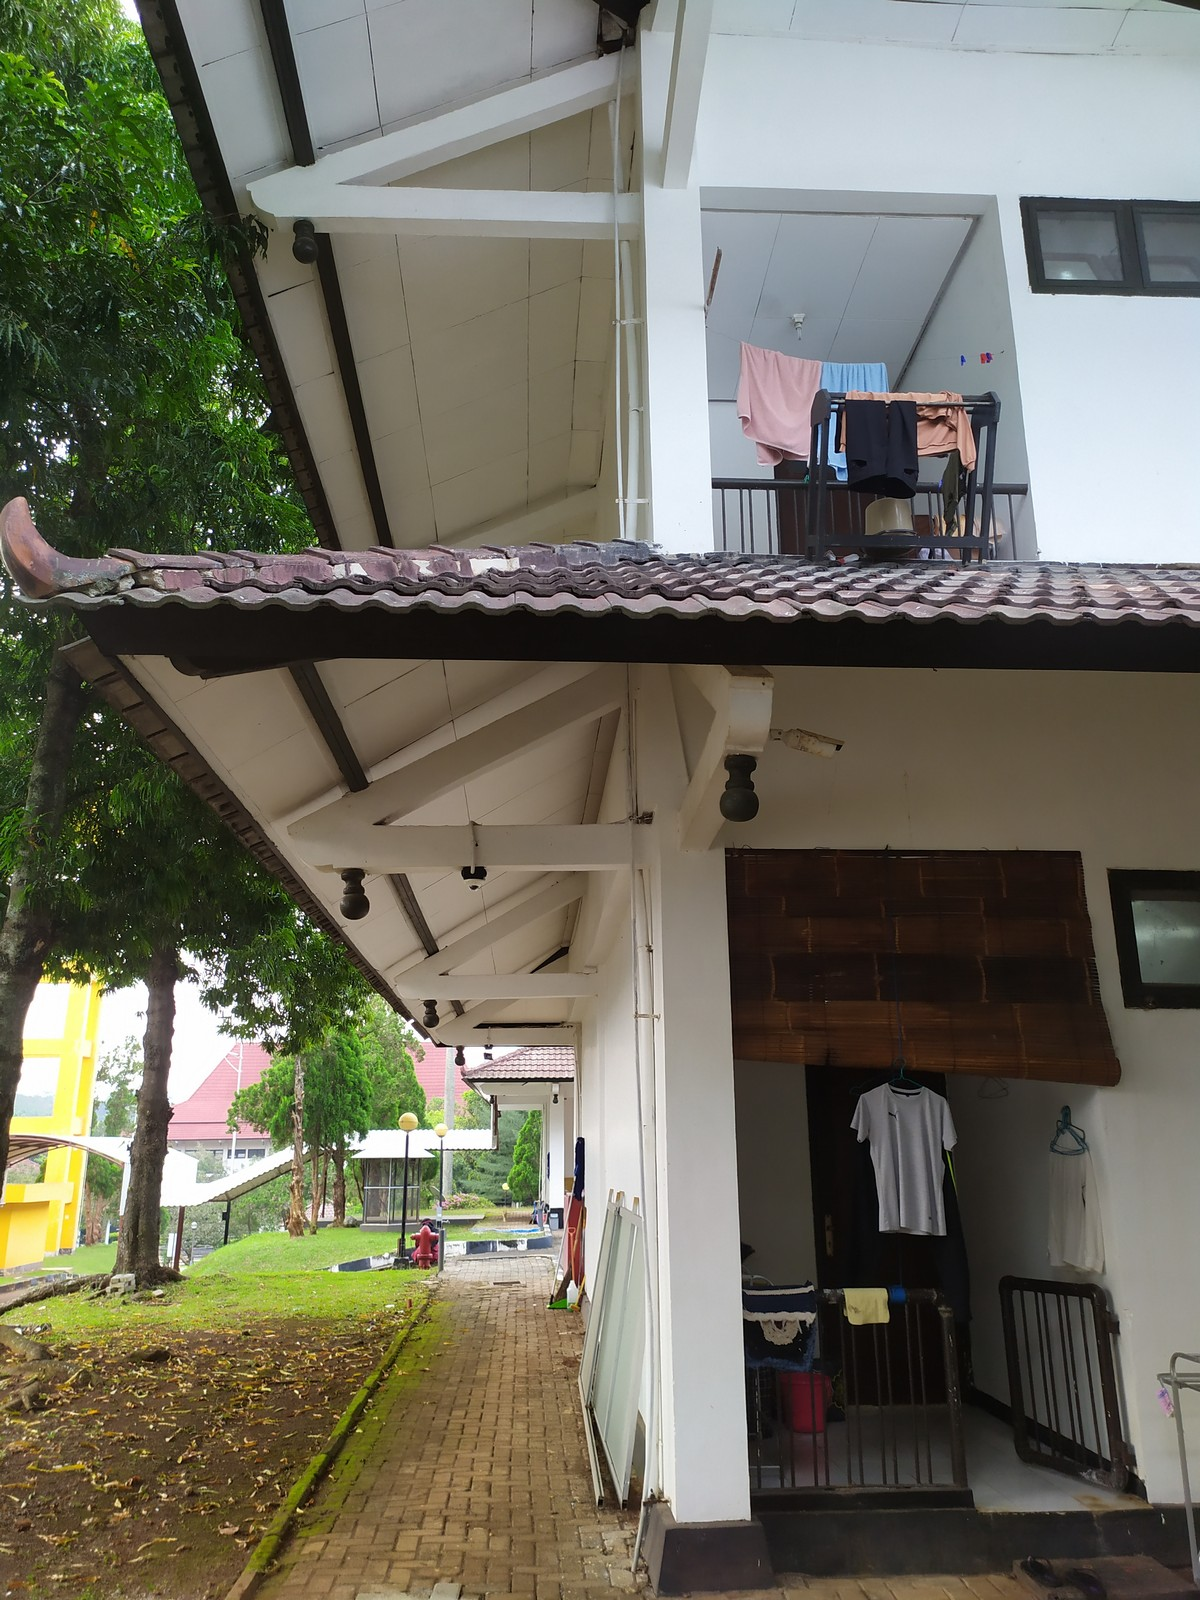concrete beam: (337, 179, 648, 249), (391, 813, 661, 888)
concrete column: (637, 689, 766, 1536), (625, 163, 729, 557)
